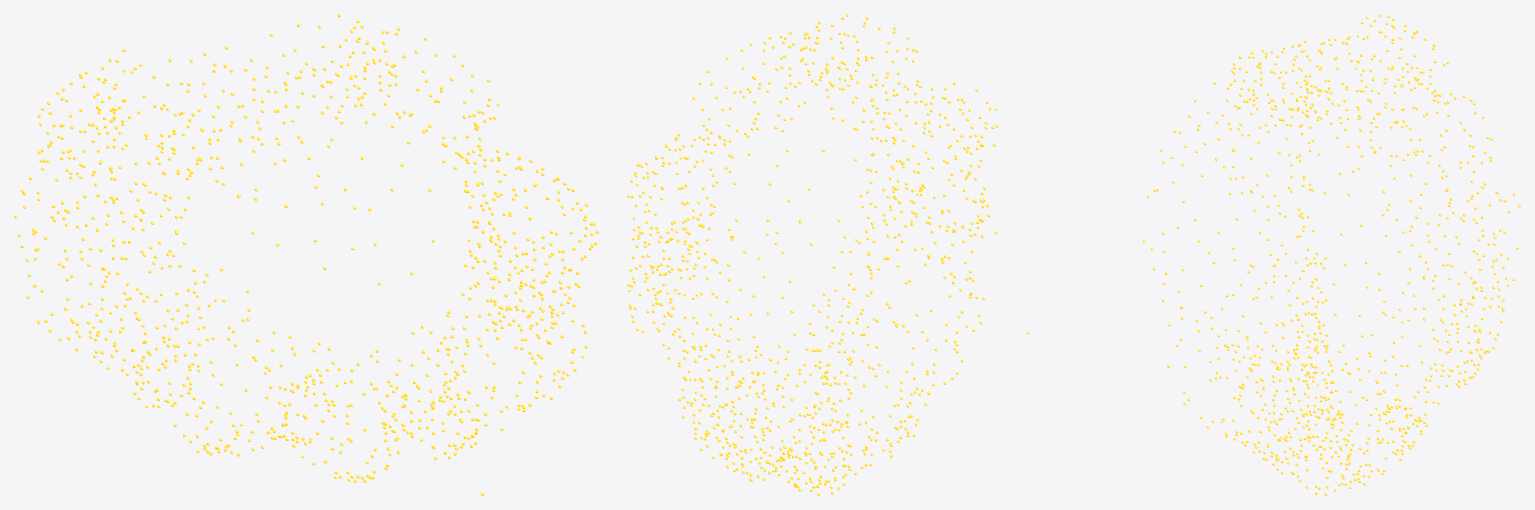
File: ribosomes_Rough_ER.fbx
The picture shows the model from 3 angles, left to right: view 1: azimuth 30°, elevation 25°; view 2: azimuth 150°, elevation 25°; view 3: azimuth 270°, elevation 25°; orthographic projection. The views are drawn at different scales.
Visible parts, largest first — view 1: Ribosomes_Rough_ER; view 2: Ribosomes_Rough_ER; view 3: Ribosomes_Rough_ER.
Boxes of the visible parts, <box> form: Ribosomes_Rough_ER: <box>14,14,598,495</box>; Ribosomes_Rough_ER: <box>627,14,998,495</box>; Ribosomes_Rough_ER: <box>1027,14,1520,495</box>.
Size of the model in its own units: 2089 by 2074 by 2273.
